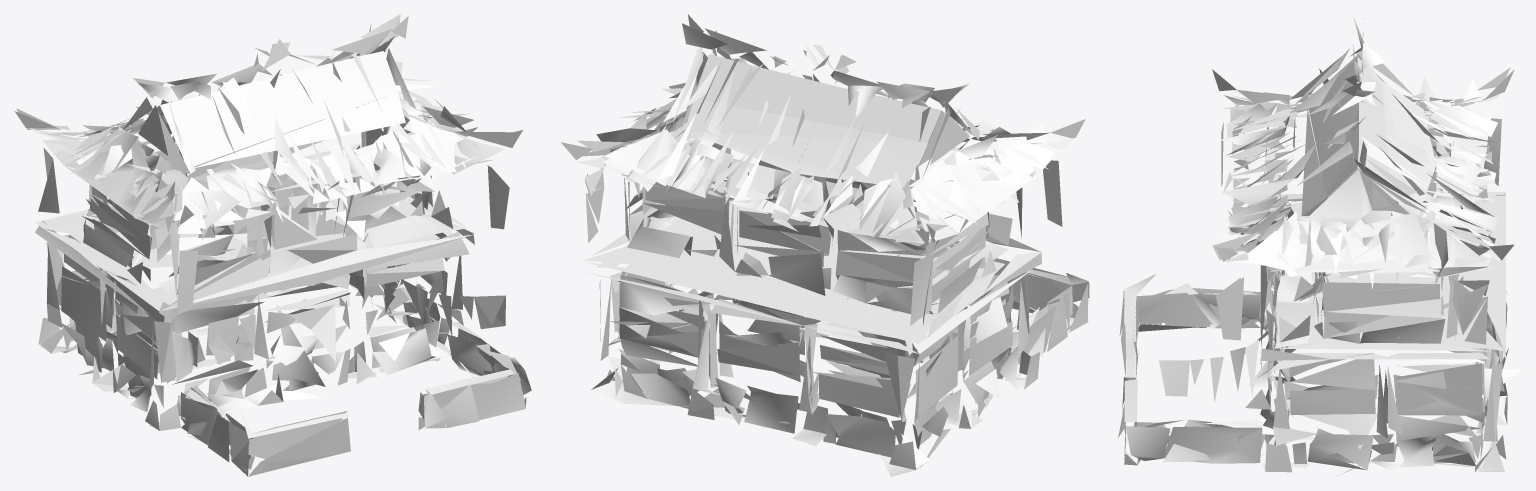
The model's file is house_timber_b_lod2.glb.
3 views of the same model, side by side, from view 1: azimuth 30°, elevation 25°; view 2: azimuth 150°, elevation 25°; view 3: azimuth 270°, elevation 25° (orthographic). The views are drawn at different scales.
Visible parts, largest first — view 1: house_timber_b; view 2: house_timber_b; view 3: house_timber_b.
Boxes of the visible parts, x1,y1,x2,y2 form: house_timber_b: [14, 14, 531, 476]; house_timber_b: [561, 14, 1089, 476]; house_timber_b: [1118, 15, 1521, 475].
Size of the model in its own units: 8.06 by 7.11 by 7.67.
1 material, 1 textured.
